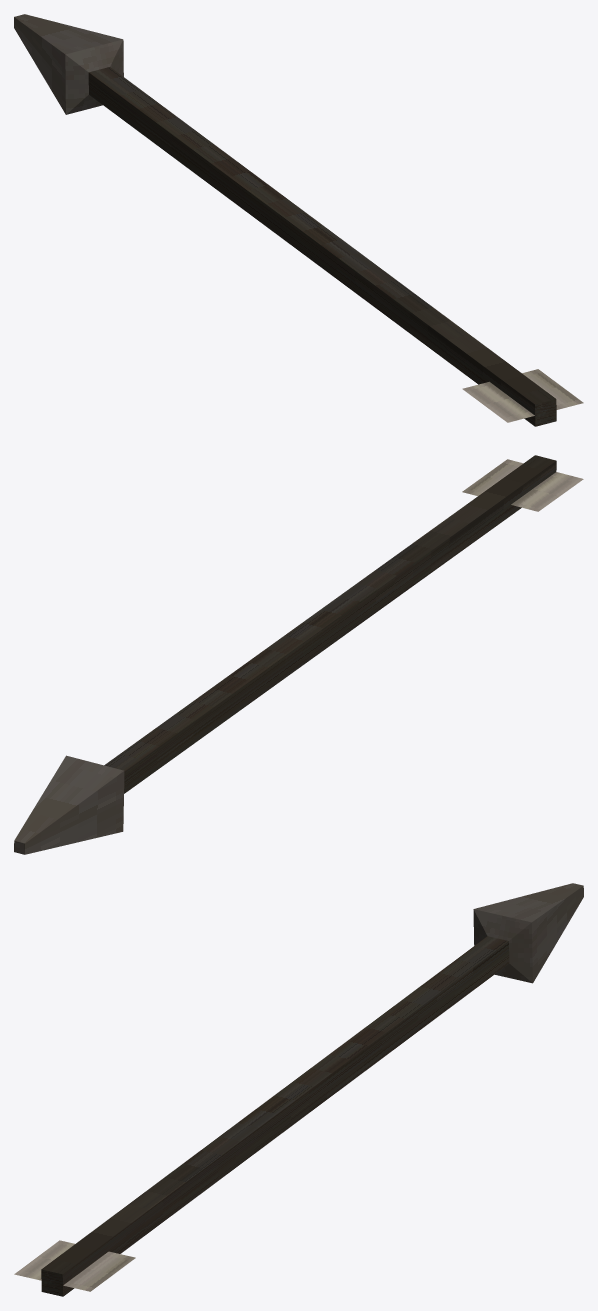
Rendered from Bolt.glb.
3 views of the same model, one above another, from view 1: azimuth 30°, elevation 25°; view 2: azimuth 150°, elevation 25°; view 3: azimuth 330°, elevation 25° (orthographic).
Visible parts, largest first — view 1: Cube; view 2: Cube; view 3: Cube.
Boxes of the visible parts, bbox=[...] form: Cube: bbox=[14, 14, 583, 426]; Cube: bbox=[14, 455, 583, 854]; Cube: bbox=[14, 883, 583, 1296].
Bounding box in the file's own units: 0.1928 × 0.1491 × 2.3.
1 material, 1 textured.
